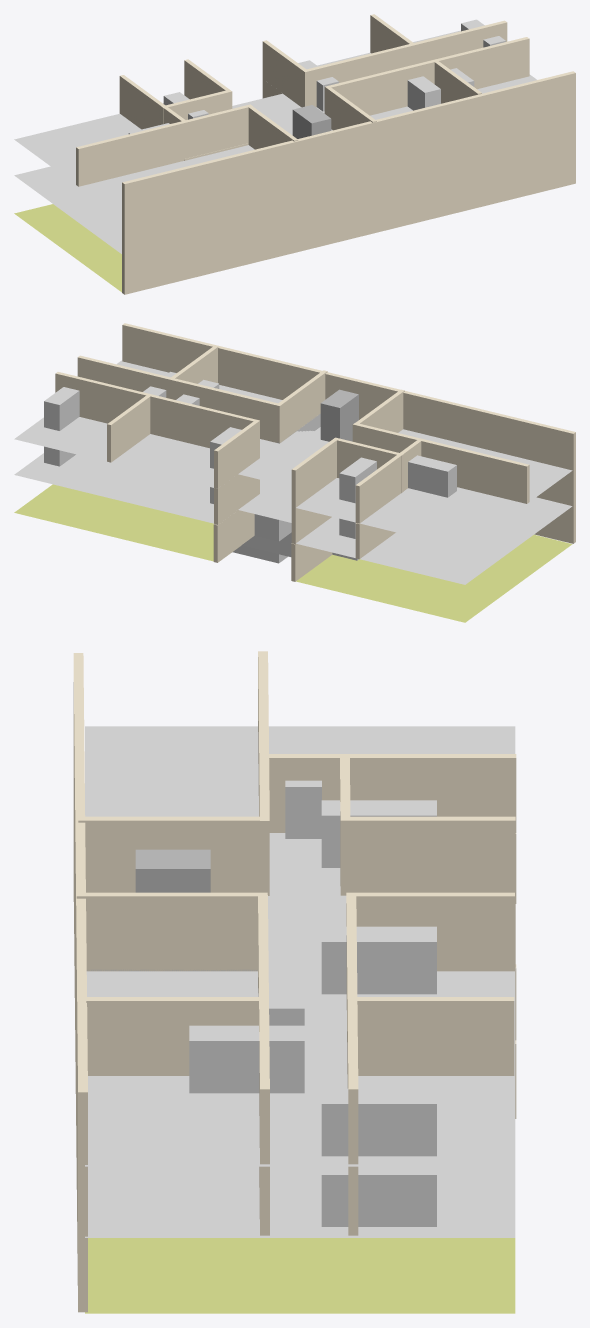
The model's file is campus.glb.
3 renders of one model, top to bottom at view 1: azimuth 30°, elevation 25°; view 2: azimuth 150°, elevation 25°; view 3: azimuth 270°, elevation 25°, orthographic. The views are drawn at different scales.
Visible parts, largest first — view 1: achtermuur, Cube.051, Cube.049, eetgrondverdiep2, Cube.023, eetgrondgelijkvloers, eetgrondverdiep1, Cube.043, Cube.056, Cube.048, Cube.053, Cube.050 (+8 smaller); view 2: achtermuur, eetgrondgelijkvloers, eetgrondverdiep2, eetgrondverdiep1, mediagrond, mediagrondverdiep2, mediagrondverdiep1, Cube.023, Cube.051, Cube.049, Cube.056, inkomgrondverdiep2 (+20 smaller); view 3: mediagrondverdiep2, mediagrond, eetgrondverdiep2, mediagrondverdiep1, Cube.048, Cube.050, Cube.059, Cube.056, Cube.053, Cube.054, Cube.043, achtermuur (+12 smaller).
Part boxes in pixels (bbox=[...]): achtermuur: bbox=[122, 71, 575, 294]; Cube.051: bbox=[76, 104, 252, 186]; Cube.049: bbox=[328, 37, 529, 115]; eetgrondverdiep2: bbox=[14, 103, 254, 218]; Cube.023: bbox=[305, 20, 507, 106]; eetgrondgelijkvloers: bbox=[14, 204, 121, 292]; eetgrondverdiep1: bbox=[14, 166, 121, 253]; Cube.043: bbox=[262, 40, 308, 107]; Cube.056: bbox=[119, 75, 185, 129]; Cube.048: bbox=[324, 86, 376, 130]; Cube.053: bbox=[246, 104, 298, 149]; Cube.050: bbox=[184, 59, 232, 109]; achtermuur: bbox=[122, 323, 575, 543]; eetgrondgelijkvloers: bbox=[296, 534, 572, 622]; eetgrondverdiep2: bbox=[296, 429, 572, 548]; eetgrondverdiep1: bbox=[296, 497, 572, 584]; mediagrond: bbox=[14, 484, 213, 561]; mediagrondverdiep2: bbox=[14, 360, 282, 487]; mediagrondverdiep1: bbox=[14, 453, 274, 523]; Cube.023: bbox=[55, 372, 255, 447]; Cube.051: bbox=[352, 422, 529, 503]; Cube.049: bbox=[77, 355, 277, 442]; Cube.056: bbox=[355, 440, 421, 523]; inkomgrondverdiep2: bbox=[238, 431, 328, 487]; mediagrondverdiep2: bbox=[85, 967, 515, 1166]; mediagrond: bbox=[85, 1238, 515, 1313]; eetgrondverdiep2: bbox=[85, 726, 515, 895]; mediagrondverdiep1: bbox=[85, 1166, 515, 1237]; Cube.048: bbox=[76, 892, 267, 971]; Cube.050: bbox=[340, 816, 515, 895]; Cube.059: bbox=[348, 997, 514, 1075]; Cube.056: bbox=[262, 754, 516, 832]; Cube.053: bbox=[78, 816, 268, 892]; Cube.054: bbox=[86, 997, 260, 1075]; Cube.043: bbox=[346, 892, 514, 971]; achtermuur: bbox=[73, 653, 87, 1312].
Size of the model in its own units: 18.05 by 5.08 by 7.67.
